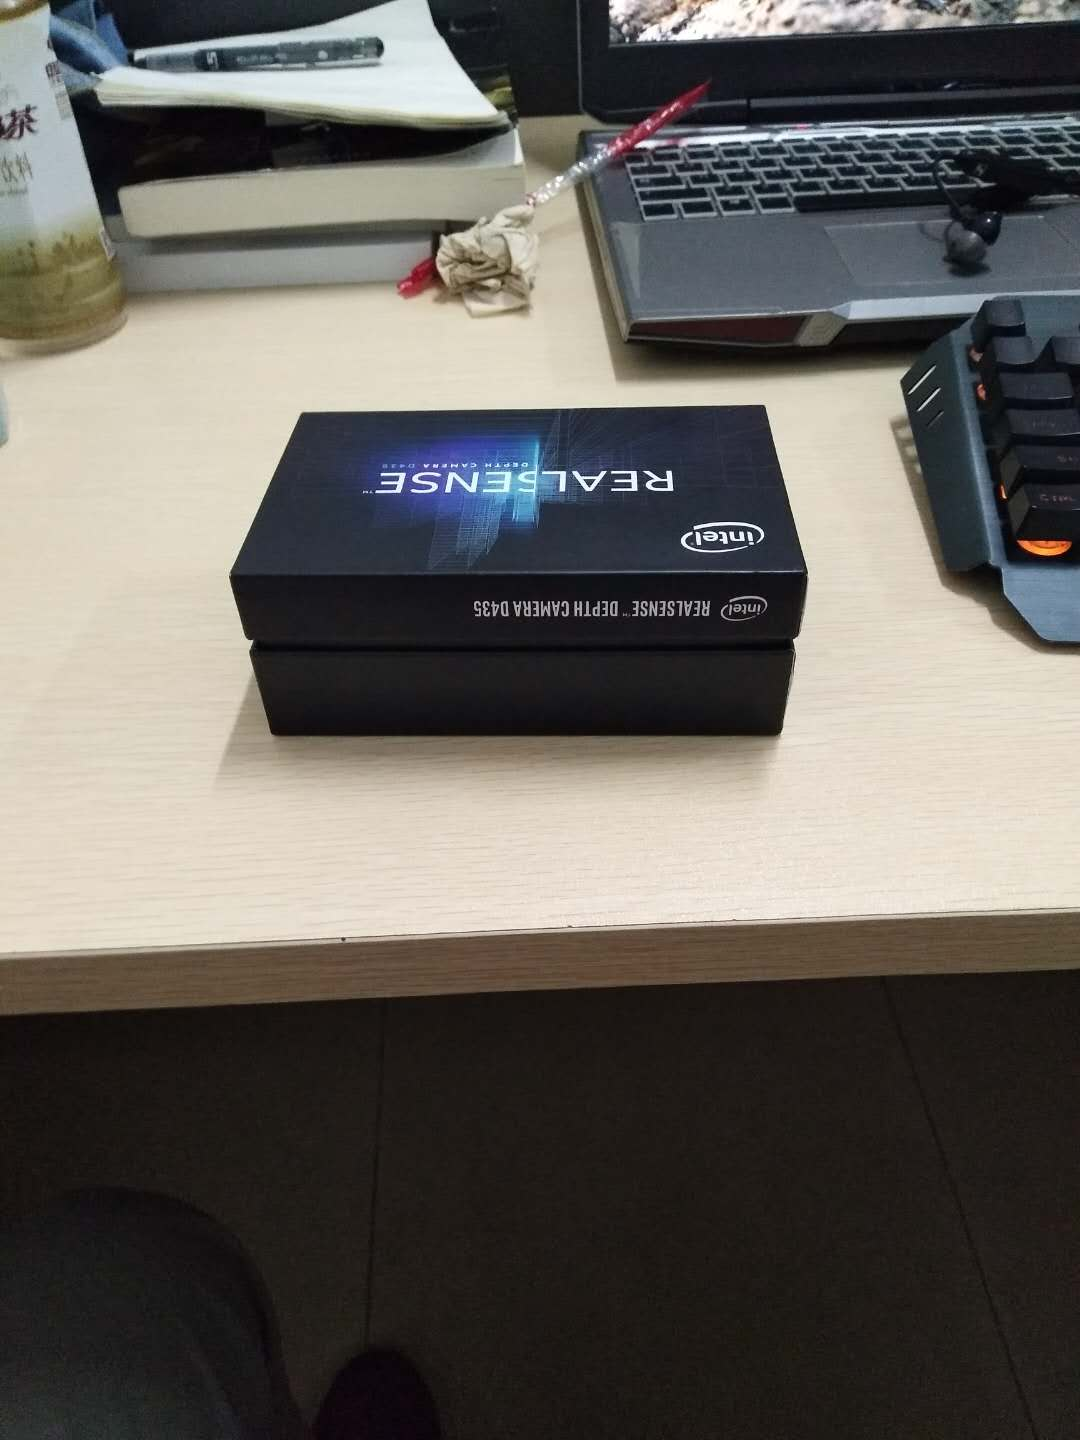box: (216, 409, 828, 763)
